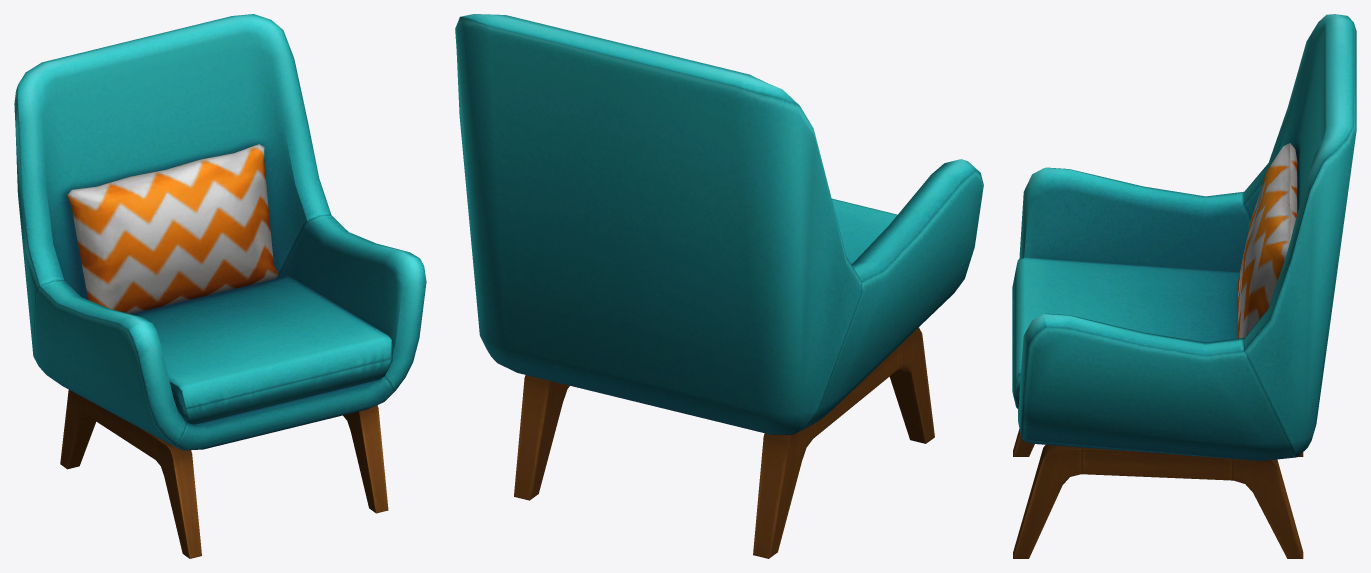
The model's file is Lovely单人沙发.glb.
3 renders of one model, left to right at view 1: azimuth 30°, elevation 25°; view 2: azimuth 150°, elevation 25°; view 3: azimuth 270°, elevation 25°, orthographic. The views are drawn at different scales.
Visible parts, largest first — view 1: TinyLiving_LovelyArmchair_33; view 2: TinyLiving_LovelyArmchair_33; view 3: TinyLiving_LovelyArmchair_33.
Part boxes in pixels (x1,y1,x2,y2): TinyLiving_LovelyArmchair_33: [14, 14, 426, 558]; TinyLiving_LovelyArmchair_33: [455, 14, 983, 558]; TinyLiving_LovelyArmchair_33: [1012, 14, 1356, 558].
Bounding box in the file's own units: 0.8216 × 1.03 × 0.7393.
1 material, 1 textured.
